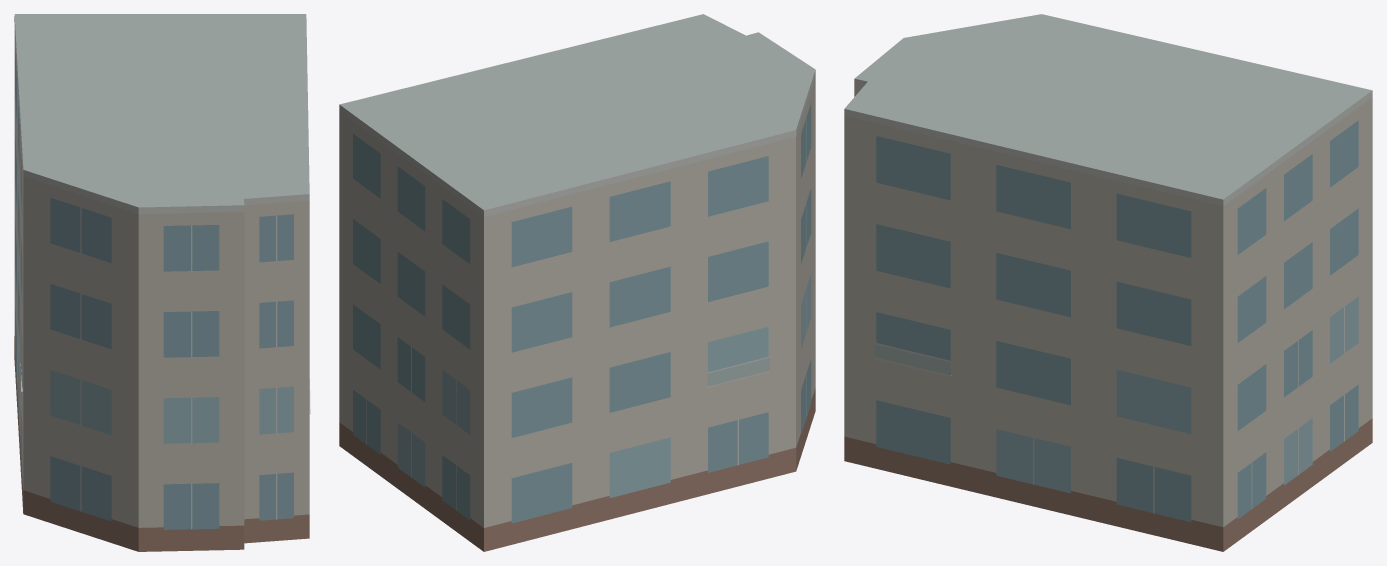
The model's file is survey-upis-32625359.glb.
The picture shows the model from 3 angles, left to right: view 1: azimuth 30°, elevation 25°; view 2: azimuth 150°, elevation 25°; view 3: azimuth 270°, elevation 25°; orthographic projection. The views are drawn at different scales.
Parts seen in each view (by area): view 1: survey-upis-32625359.tmp; view 2: survey-upis-32625359.tmp; view 3: survey-upis-32625359.tmp.
Boxes of the visible parts, box(x1,y1,x2,y2) form: survey-upis-32625359.tmp: box(14, 14, 310, 551); survey-upis-32625359.tmp: box(339, 14, 815, 551); survey-upis-32625359.tmp: box(844, 14, 1372, 551).
Bounding box in the file's own units: 14.58 × 12.9 × 17.54.
